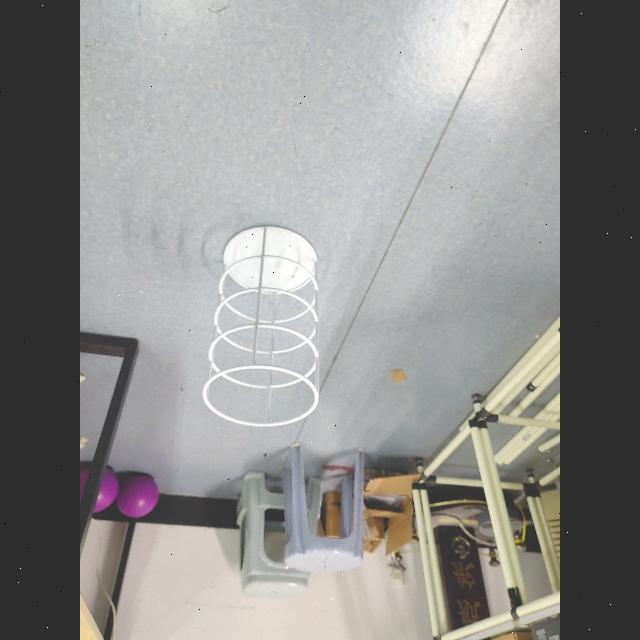S: (196, 222, 330, 430)
